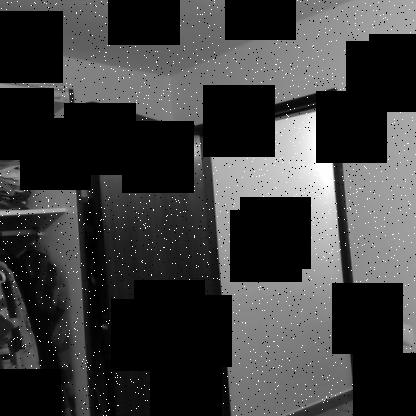Porte: (81, 87, 365, 415)
